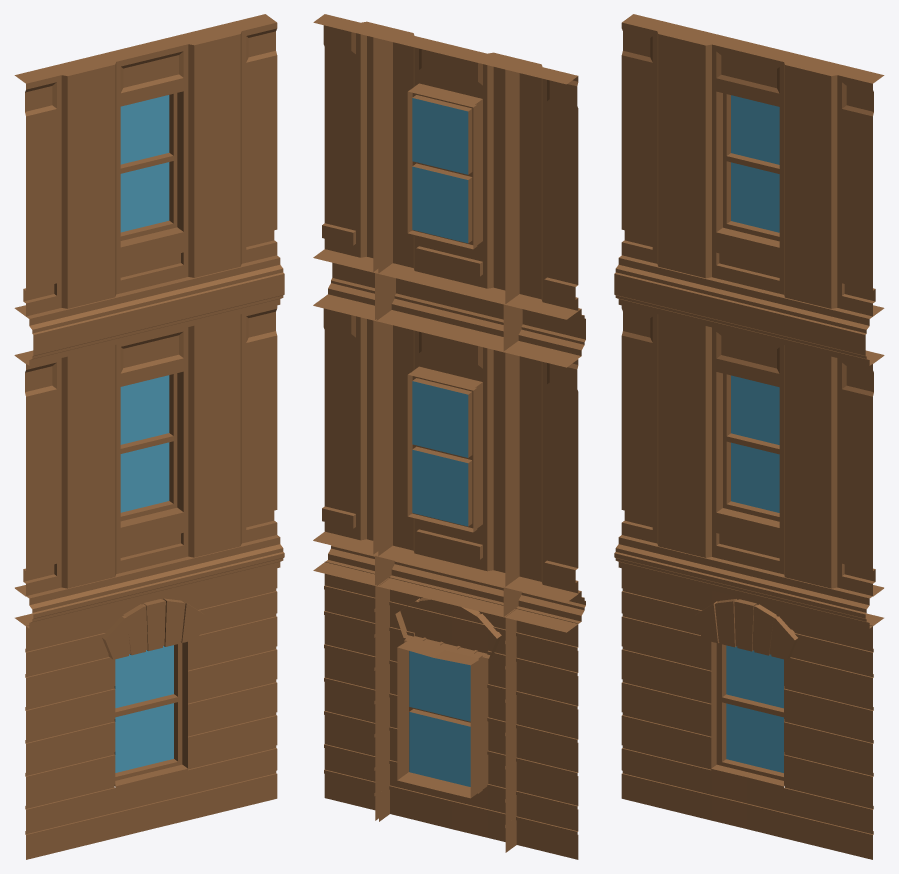
File: F_Dbl.fbx
3 renders of one model, left to right at view 1: azimuth 30°, elevation 25°; view 2: azimuth 150°, elevation 25°; view 3: azimuth 330°, elevation 25°, orthographic.
Visible parts, largest first — view 1: Box015; view 2: Box015; view 3: Box015.
Part boxes in pixels (bbox=[...]): Box015: bbox=[14, 14, 284, 859]; Box015: bbox=[313, 14, 585, 859]; Box015: bbox=[614, 14, 884, 859].
Bounding box in the file's own units: 6.21 × 18.34 × 1.07.
